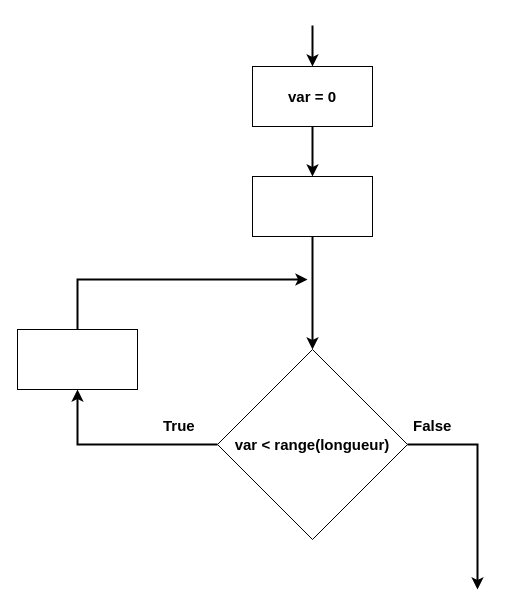
This 505x615 diagram has some shape labels left out. The shapes that lost their labels are listed below. From the top down, each one's centre as x and y in pixels, then its label:
(x=312, y=206): longueur
(x=77, y=359): var = var + 1
